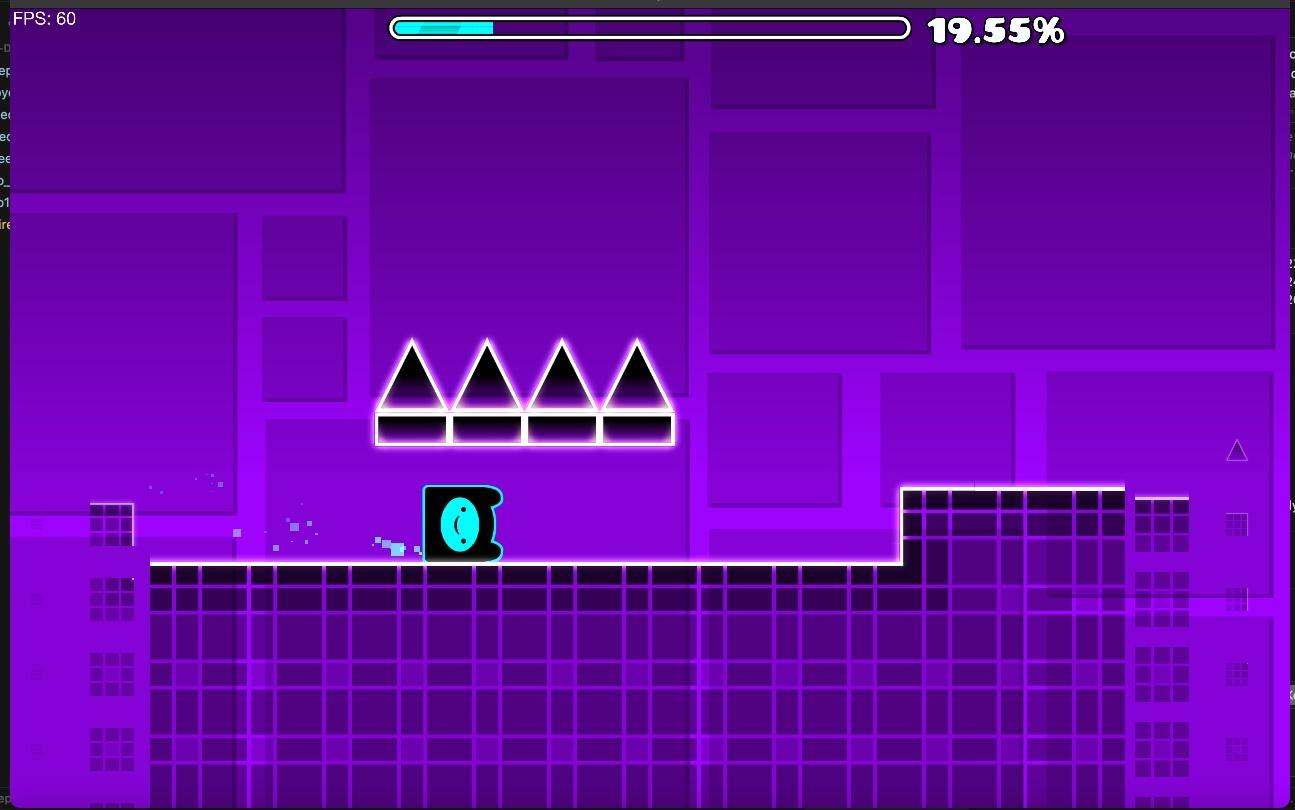block: (151, 563, 901, 810), (903, 491, 1130, 810)
player: (422, 485, 502, 562)
spike: (374, 339, 675, 447)
